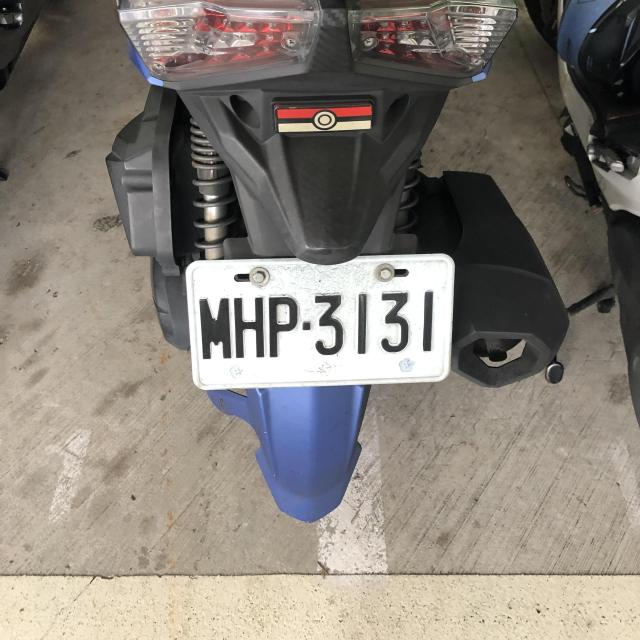W: (182, 250, 456, 392)
